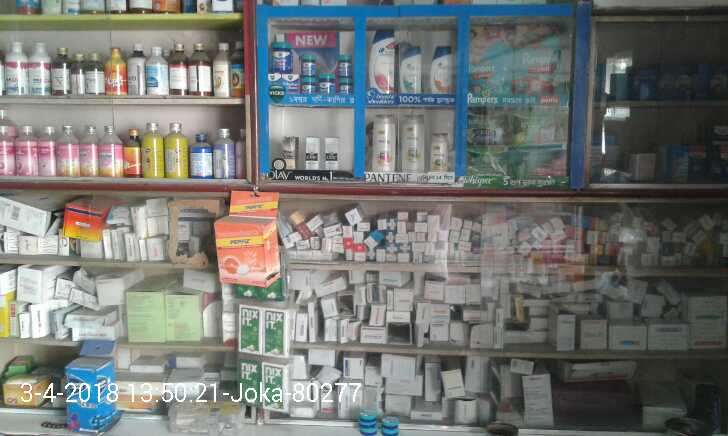vicks: (269, 41, 353, 92)
